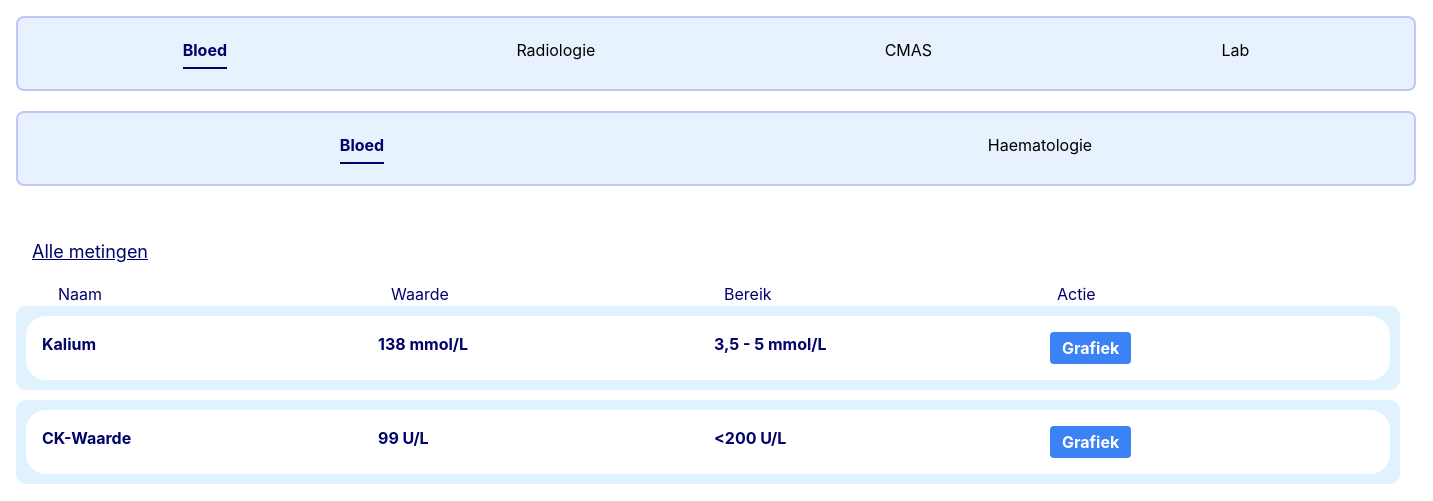
MeasurementsPage › changes tab when a different main tab is clicked
Click the tab "Lab". click: (1235, 54)
box: [1222,38,1249,69]
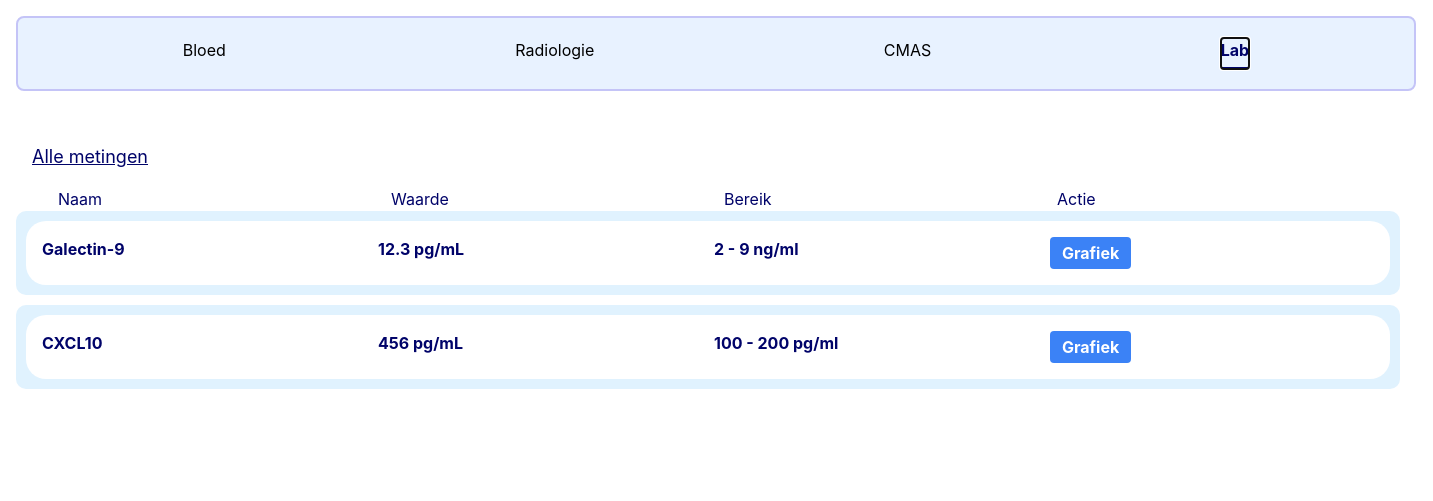
Expected: the text "Galectin-9" is shown, [42,239,125,259]
Expected: the text "CXCL10" is shown, [42,333,102,353]
